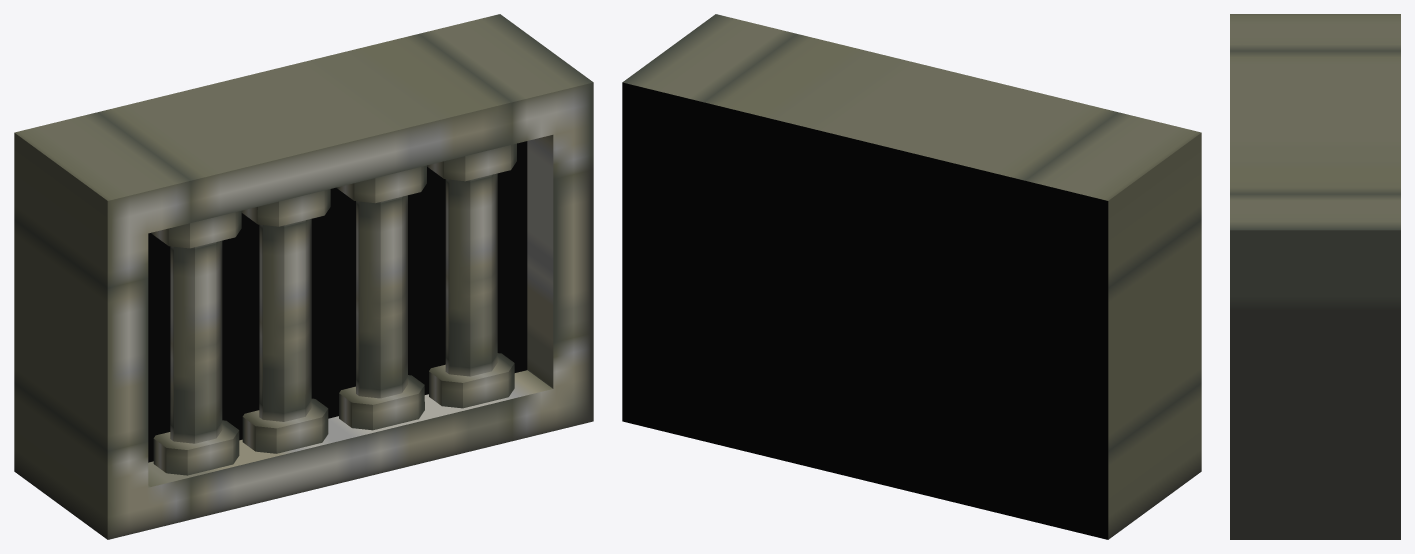
The model's file is Poly_Small_Window_01.obj.
3 renders of one model, left to right at view 1: azimuth 30°, elevation 25°; view 2: azimuth 150°, elevation 25°; view 3: azimuth 270°, elevation 25°, orthographic. The views are drawn at different scales.
Visible parts, largest first — view 1: Cube_Cube.001, Cube.001_Cube; view 2: Cube_Cube.001; view 3: Cube_Cube.001.
Part boxes in pixels (x1,y1,x2,y2): Cube_Cube.001: [14, 14, 593, 539]; Cube.001_Cube: [151, 143, 516, 475]; Cube_Cube.001: [622, 14, 1201, 539]; Cube_Cube.001: [1230, 14, 1400, 539].
Bounding box in the file's own units: 0.9 × 0.6 × 0.3.
Materials: 1 (1 with a texture image).
